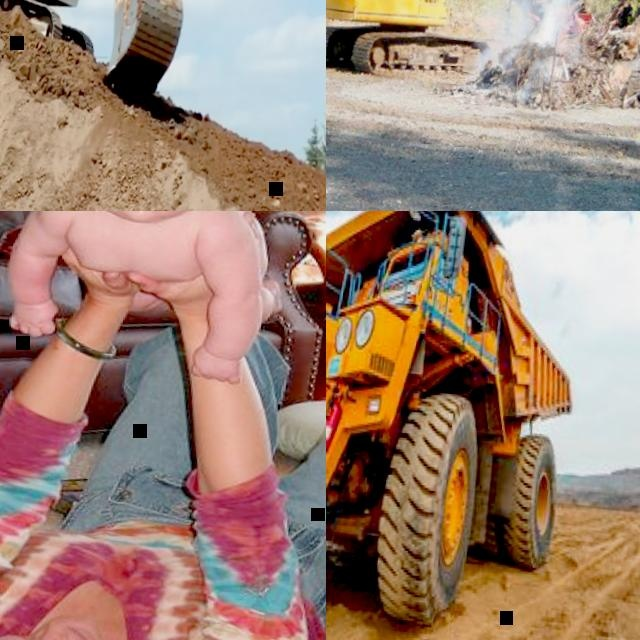NO-Mask: (30, 607, 111, 640), (89, 211, 193, 227)
NO-Safety Vest: (14, 502, 208, 640), (53, 211, 229, 290)
Person: (0, 243, 326, 640), (0, 211, 289, 385)
machinery: (326, 211, 598, 640), (326, 0, 634, 96), (0, 0, 208, 104)
